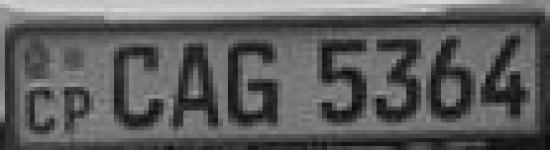3: (371, 32, 427, 128), (428, 30, 480, 128)
4: (478, 30, 534, 128)
5: (307, 33, 373, 128)
A: (169, 41, 224, 133)
C: (104, 42, 168, 131), (23, 83, 63, 137)
G: (224, 36, 290, 130)
P: (64, 82, 99, 136)
